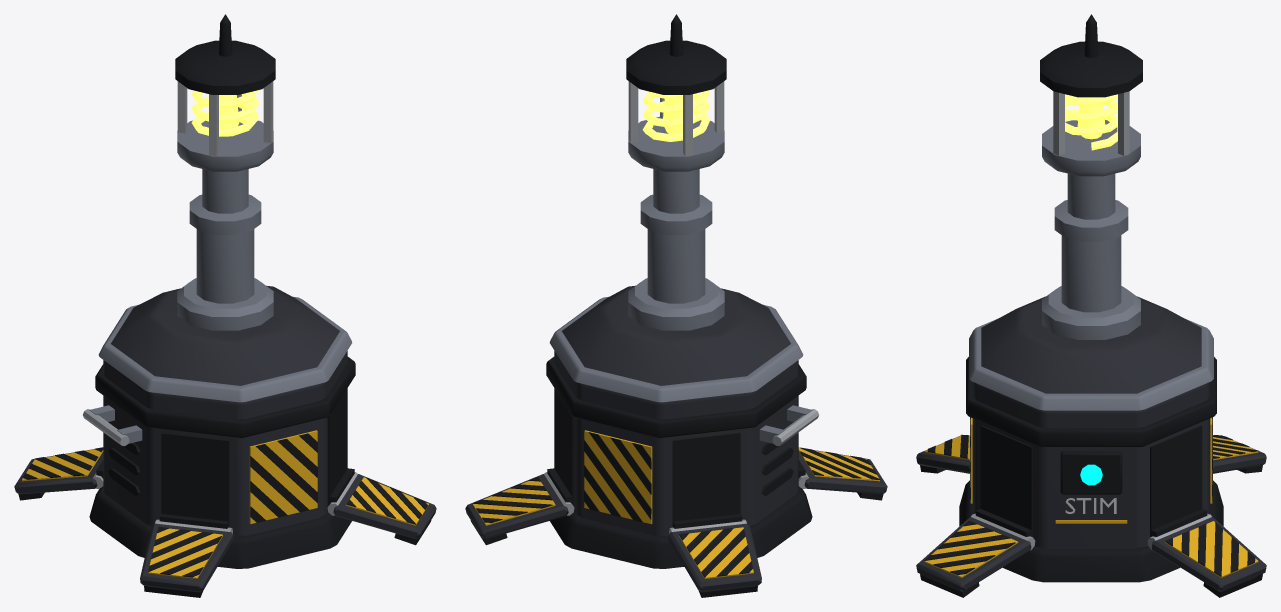
File: Stim.fbx
3 views of the same model, side by side, from view 1: azimuth 30°, elevation 25°; view 2: azimuth 150°, elevation 25°; view 3: azimuth 270°, elevation 25° (orthographic). The views are drawn at different scales.
Parts seen in each view (by area): view 1: Base_Shell, Base_Dark, Mast_Trim, Base_Trim, Panels_Shell, Mast_Dark, Panels_Dark, Panels_Hazard, Base_Hazard, Coil_Yellow, Mast_Steel, Panels_Steel (+1 smaller); view 2: Base_Shell, Base_Dark, Mast_Trim, Base_Trim, Panels_Shell, Mast_Dark, Panels_Dark, Panels_Hazard, Base_Hazard, Coil_Yellow, Mast_Steel, Panels_Steel (+1 smaller); view 3: Base_Shell, Base_Dark, Mast_Trim, Panels_Shell, Base_Trim, Mast_Dark, Panels_Dark, Panels_Hazard, Coil_Yellow, Mast_Steel, Base_Hazard, Panels_Steel.
Part boxes in pixels (box(x1,y1,x2,y2)): Base_Shell: box(103, 285, 347, 536); Base_Dark: box(89, 357, 355, 568); Mast_Trim: box(177, 120, 273, 330); Base_Trim: box(89, 296, 352, 443); Panels_Shell: box(14, 449, 436, 591); Mast_Dark: box(175, 14, 275, 94); Panels_Dark: box(18, 447, 431, 597); Panels_Hazard: box(22, 449, 428, 578); Base_Hazard: box(249, 430, 317, 524); Coil_Yellow: box(191, 90, 259, 136); Mast_Steel: box(177, 81, 273, 156); Panels_Steel: box(93, 472, 357, 533); Base_Shell: box(554, 285, 798, 536); Base_Dark: box(546, 357, 812, 568); Mast_Trim: box(628, 116, 724, 330); Base_Trim: box(549, 296, 812, 443); Panels_Shell: box(465, 447, 887, 591); Mast_Dark: box(626, 14, 726, 94); Panels_Dark: box(470, 447, 883, 597); Panels_Hazard: box(473, 448, 879, 578); Base_Hazard: box(584, 430, 652, 524); Coil_Yellow: box(642, 90, 710, 141); Mast_Steel: box(628, 81, 724, 156); Panels_Steel: box(544, 472, 808, 533); Base_Shell: box(972, 296, 1210, 548); Base_Dark: box(959, 357, 1223, 582); Mast_Trim: box(1042, 120, 1140, 339); Panels_Shell: box(916, 435, 1266, 591); Base_Trim: box(969, 318, 1213, 410); Mast_Dark: box(1040, 14, 1142, 97); Panels_Dark: box(920, 434, 1262, 597); Panels_Hazard: box(924, 436, 1258, 577); Coil_Yellow: box(1065, 94, 1117, 150); Mast_Steel: box(1053, 91, 1129, 155); Base_Hazard: box(970, 417, 1212, 523); Panels_Steel: box(971, 513, 1211, 550).
Bounding box in the file's own units: 0.6817 × 1.1 × 0.6817.
